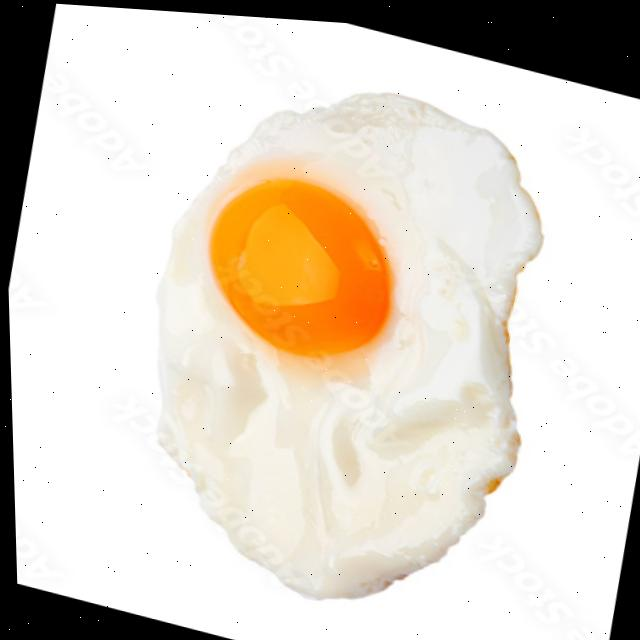Egg: (157, 88, 540, 593)
